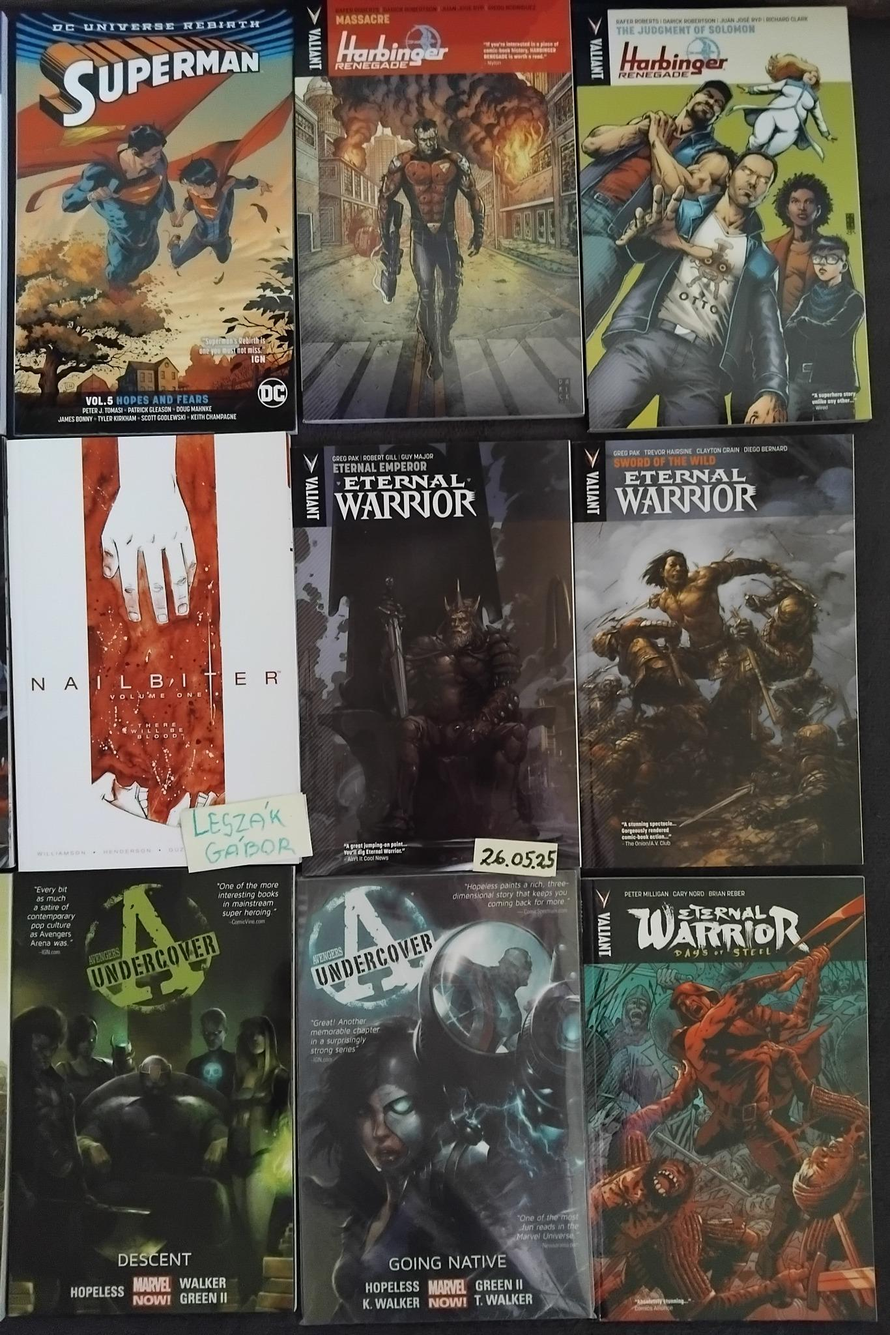comic: (293, 872, 589, 1327), (581, 871, 875, 1328), (6, 431, 302, 872), (570, 0, 871, 433), (8, 868, 293, 1316), (4, 4, 298, 438), (292, 437, 580, 874), (573, 434, 861, 871), (290, 0, 584, 424), (0, 873, 12, 1317), (0, 505, 14, 866)
